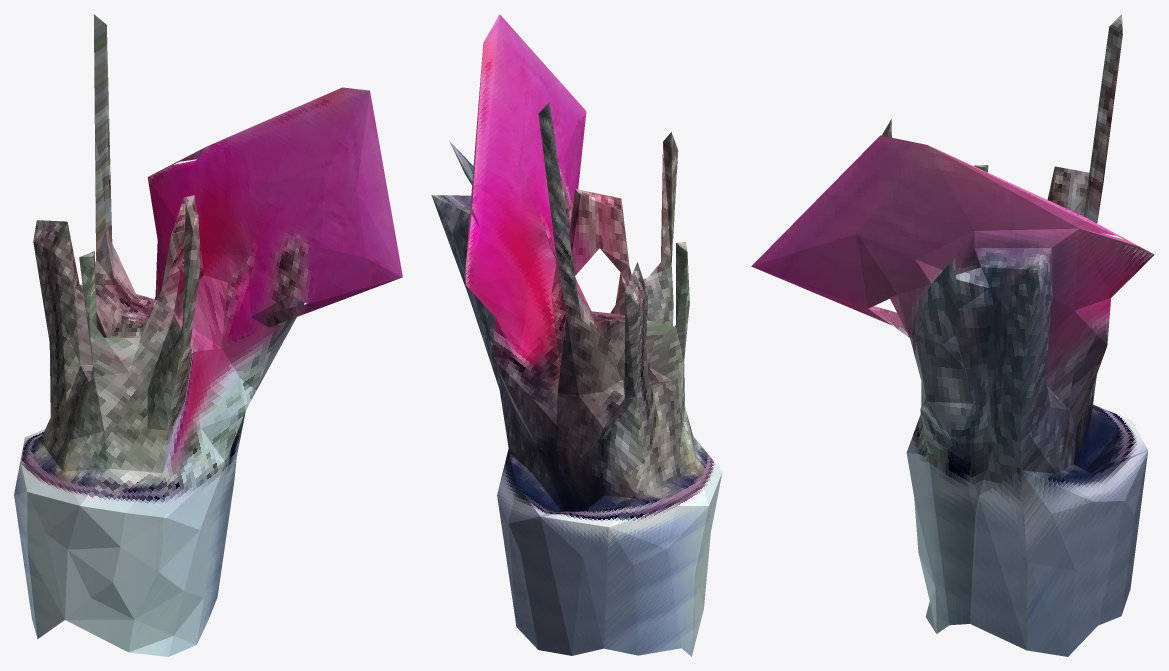
File: fast-growing-plant.glb
3 renders of one model, left to right at view 1: azimuth 30°, elevation 25°; view 2: azimuth 150°, elevation 25°; view 3: azimuth 270°, elevation 25°, orthographic. The views are drawn at different scales.
Parts seen in each view (by area): view 1: Mesh_0.004; view 2: Mesh_0.004; view 3: Mesh_0.004.
Part boxes in pixels (<box>): Mesh_0.004: <box>14,14,402,656</box>; Mesh_0.004: <box>431,14,722,656</box>; Mesh_0.004: <box>751,14,1154,656</box>.
Size of the model in its own units: 0.1001 by 0.1867 by 0.1114.
1 material, 1 textured.
